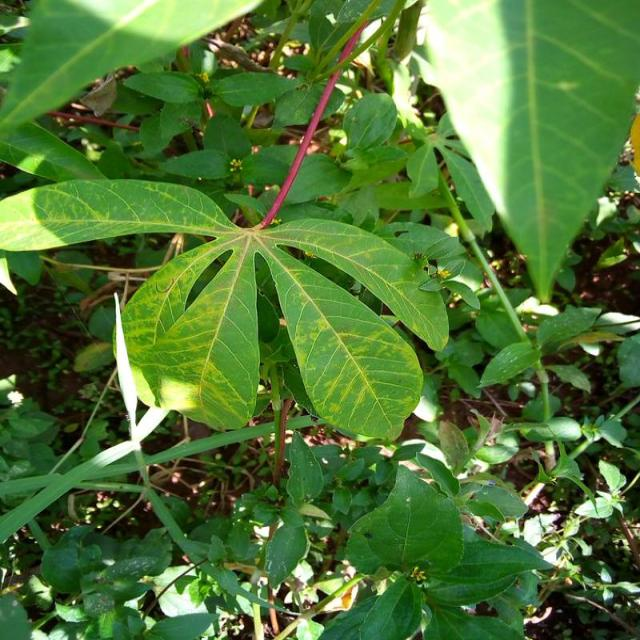cassava leaf: (413, 0, 639, 304), (0, 0, 263, 135), (257, 238, 424, 443), (114, 235, 260, 432)
